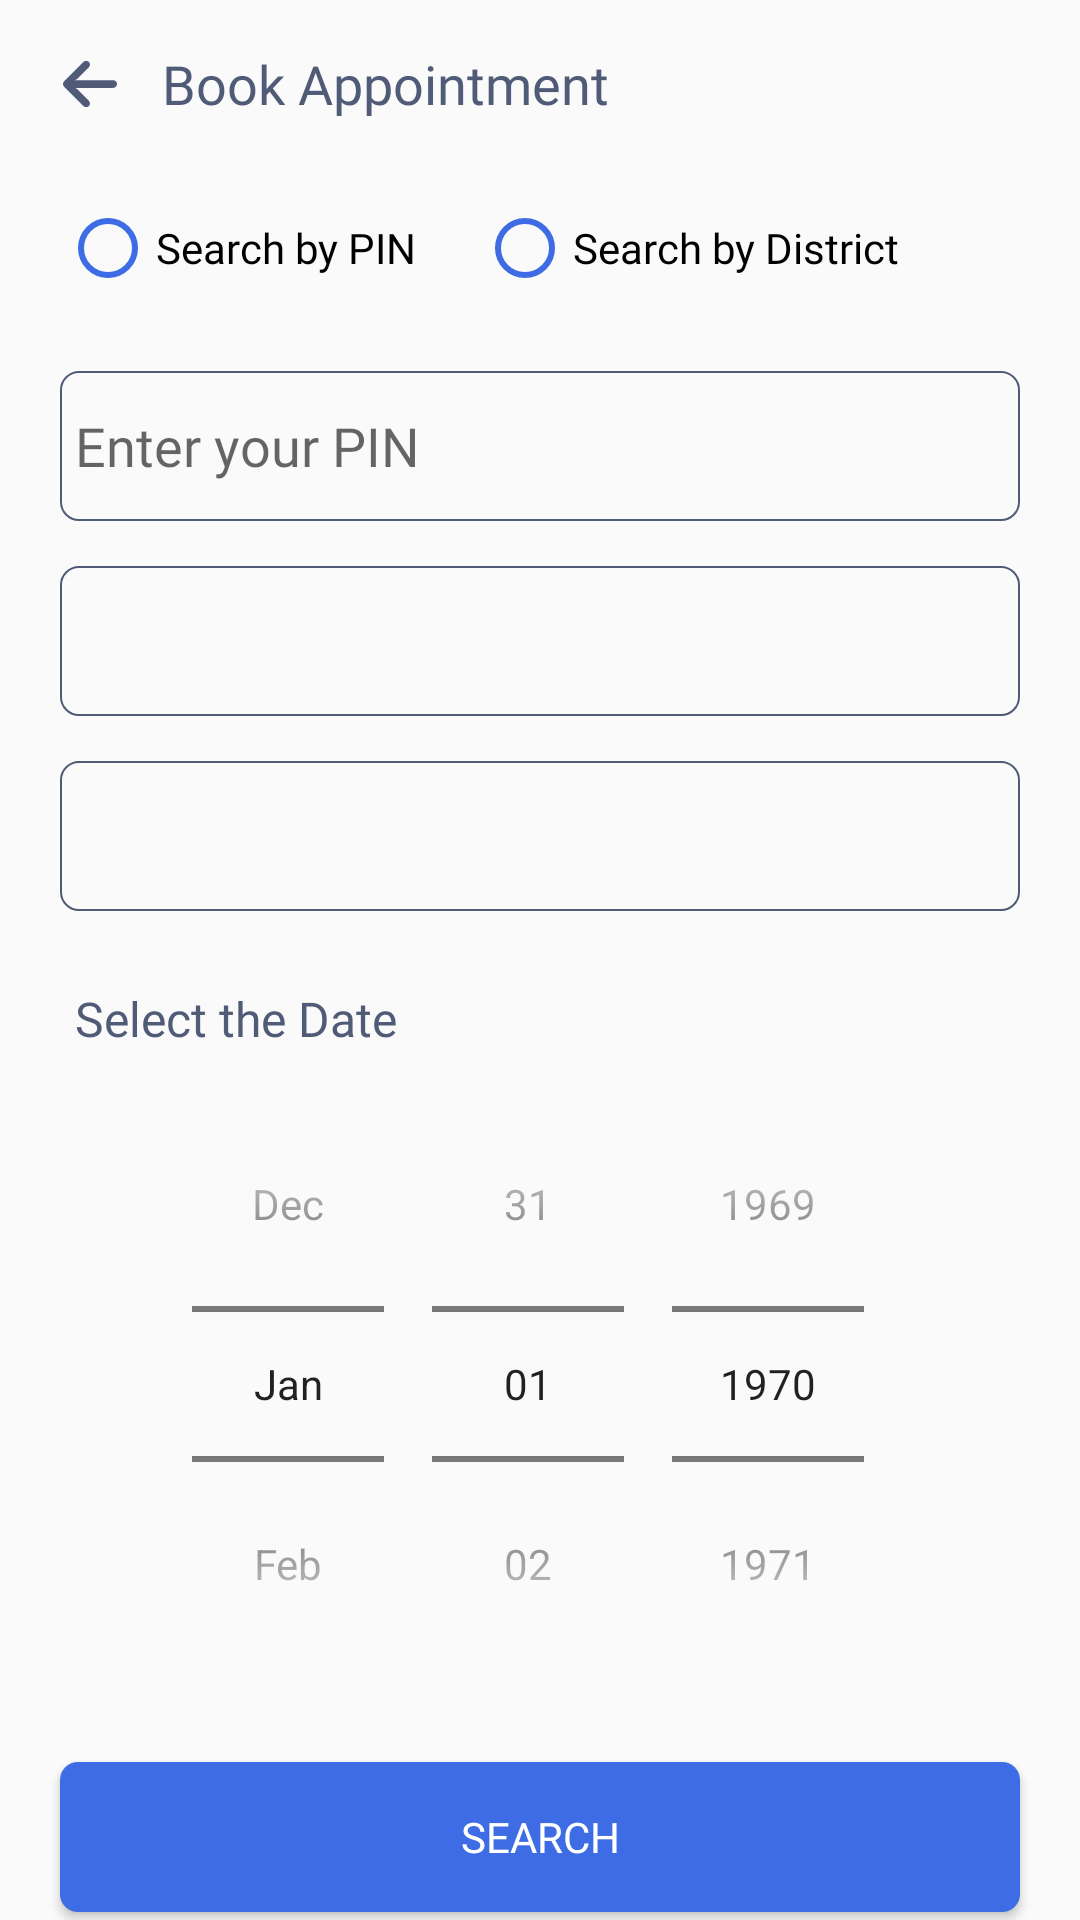

Locate icon controls on the screen. Image size 1080w x 1920h, boxes as [x1,y1,x2,y2].
back: [63,61,117,107]
